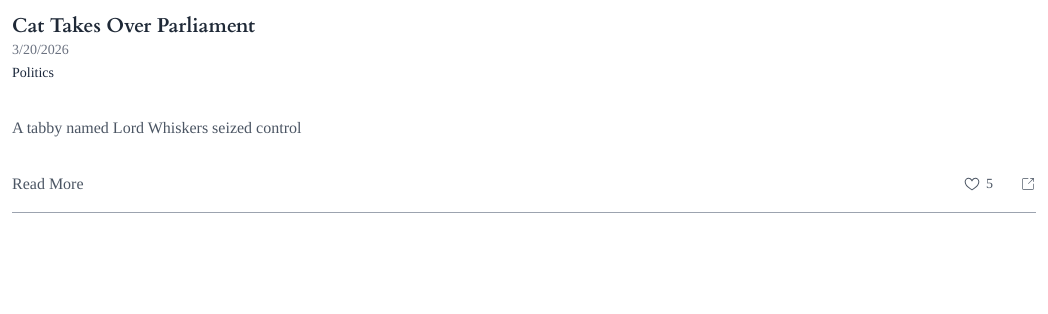
it: NewsCard › toggles to 'Hide' label when expanded
The width and height of the screenshot is (1048, 314).
Step 1. Click the button "Read More" → (48, 184), box [12,172,84,196]
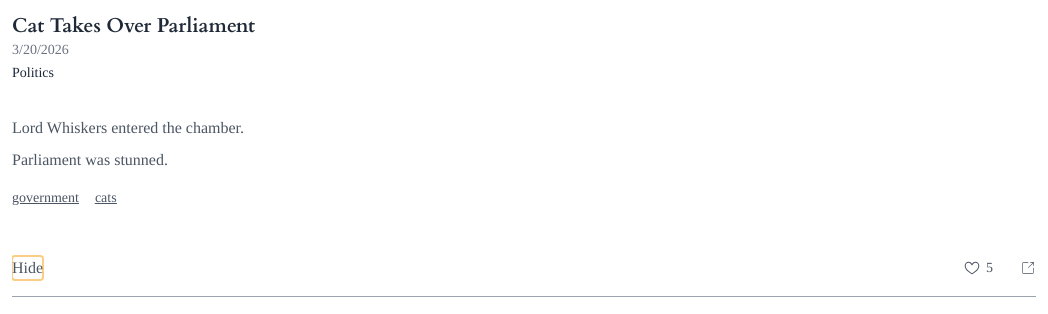
Check: the button "Hide" is shown, box [12,256,43,280]
